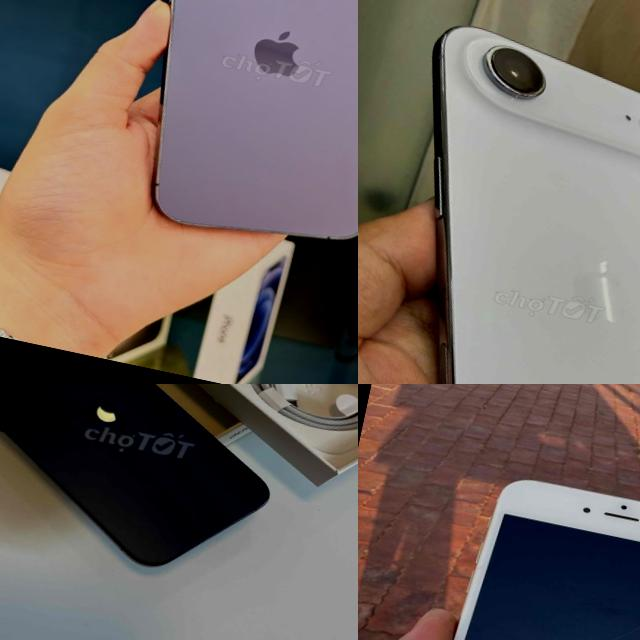gen_14: (107, 0, 358, 266)
gen_15: (0, 384, 320, 595)
gen_17: (358, 0, 640, 384)
gen_6: (453, 480, 640, 640)
screen_defect: (617, 624, 639, 639)
